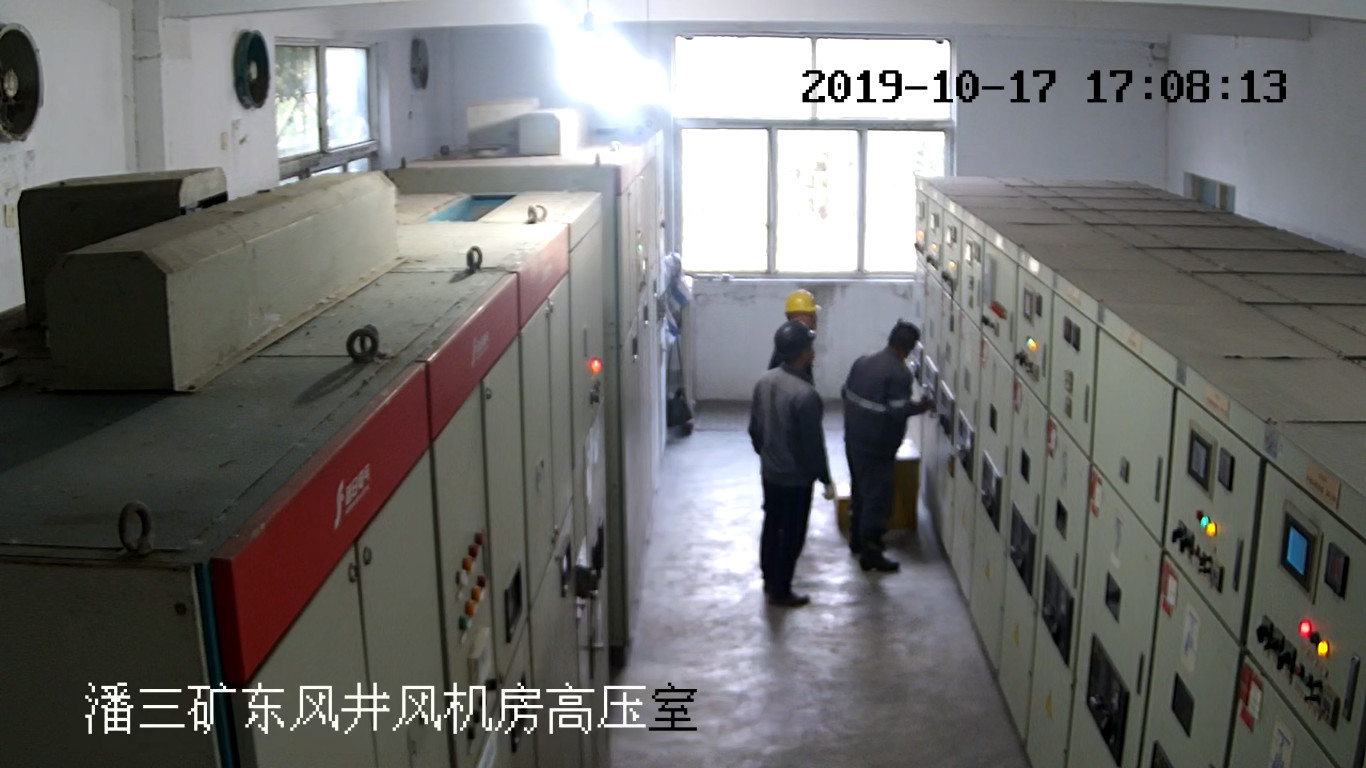helmet: (774, 319, 817, 359), (782, 289, 823, 312)
